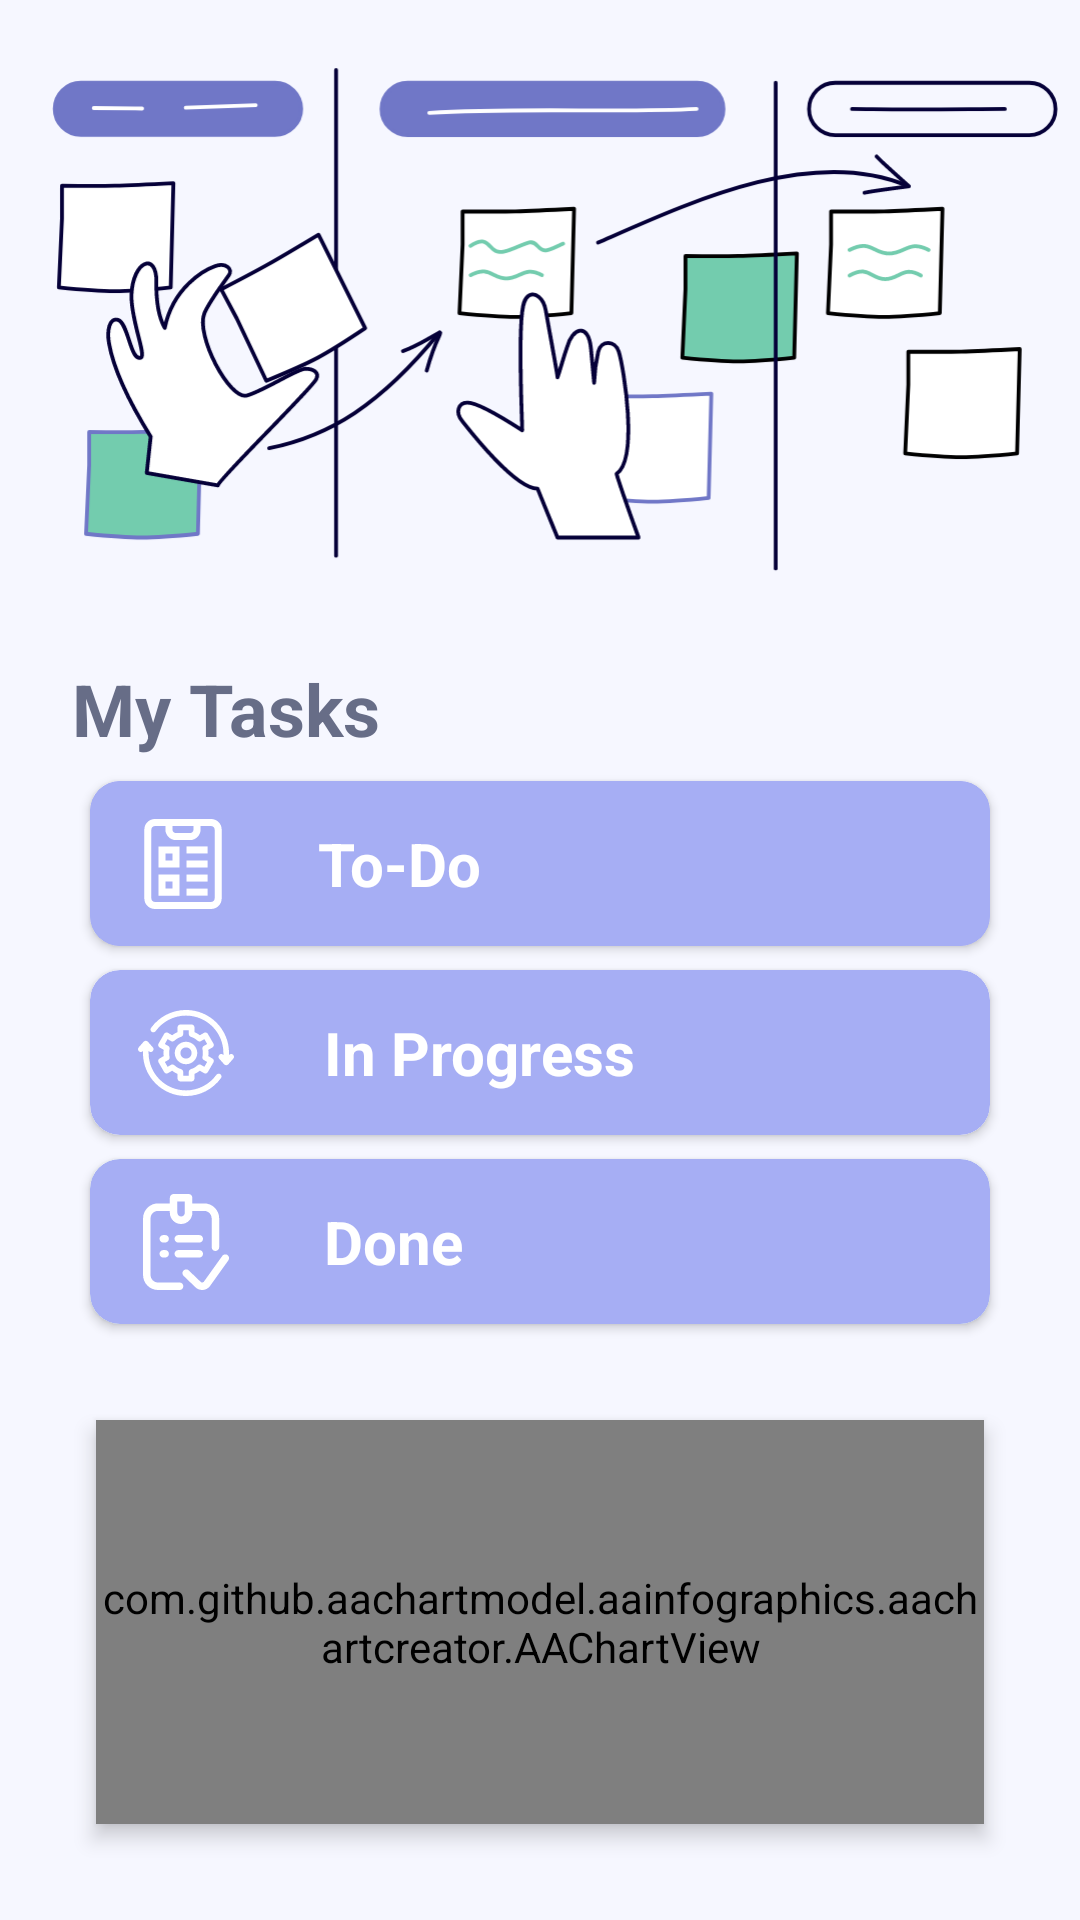

Screen size 1080px×1920px. Icon name, then its box in pixels as bbox=(x1, y1, x2, y2):
checklist: bbox=(144, 819, 222, 909)
